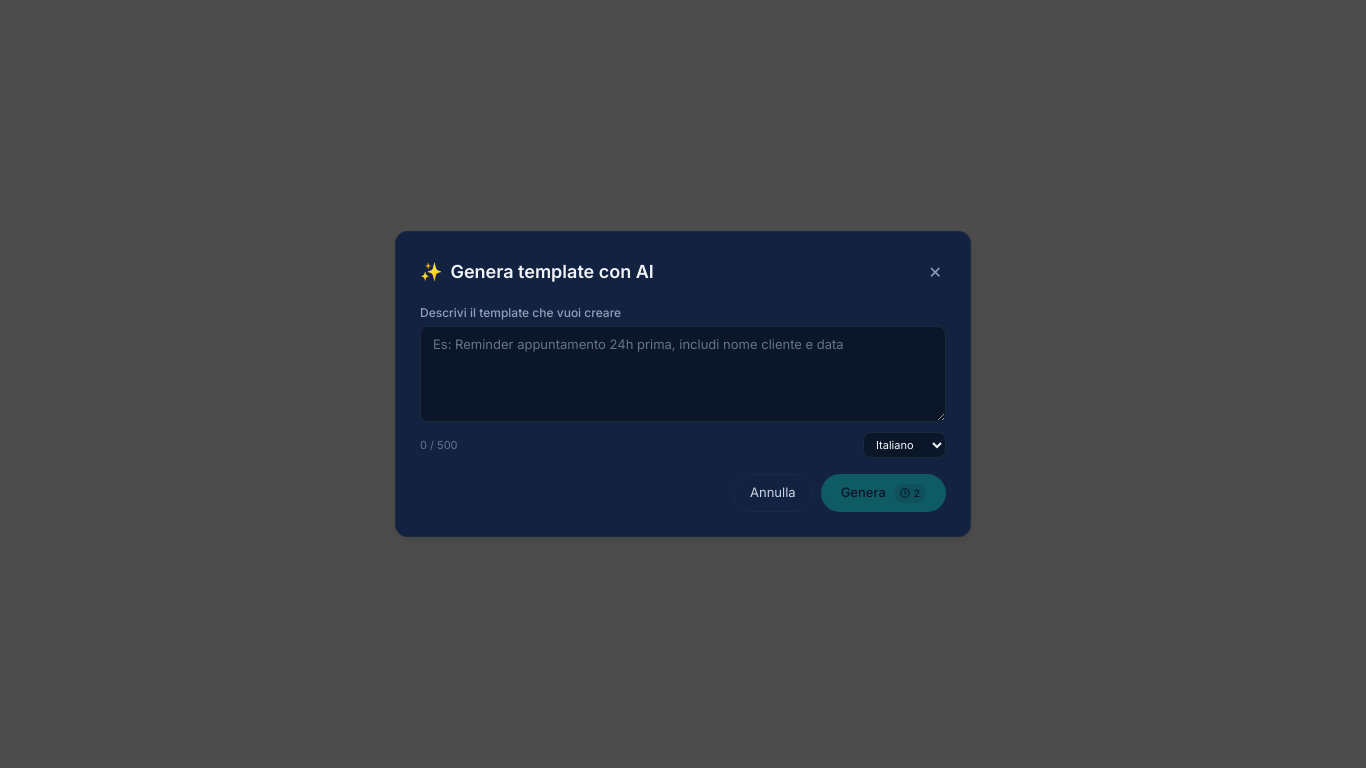
Test: <GenerateWithAI> › shows upgrade message on 402 plan-gated response
Type "test" into the text box with placeholder "Reminder" at (683, 374), box [420,326,946,422]
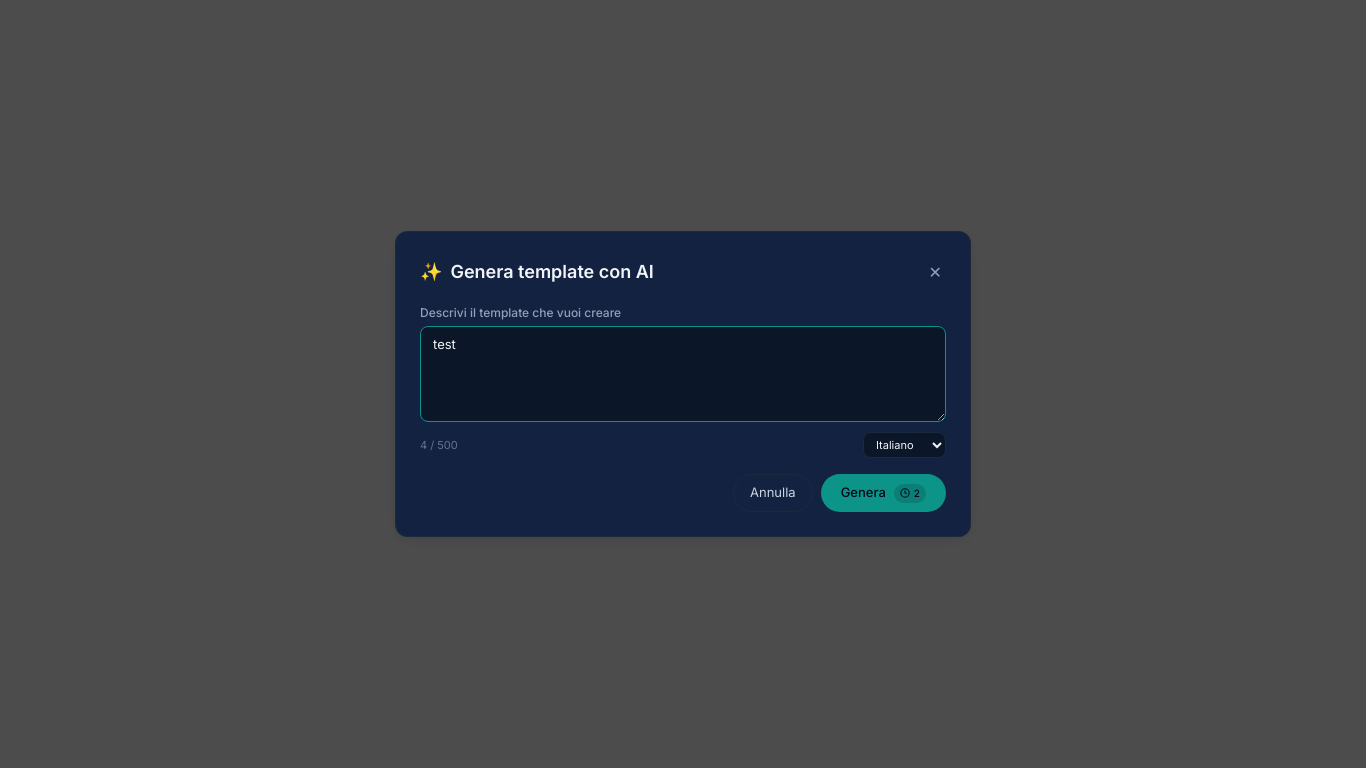
Click the button "Genera 2" at (883, 493), box [821,474,946,512]
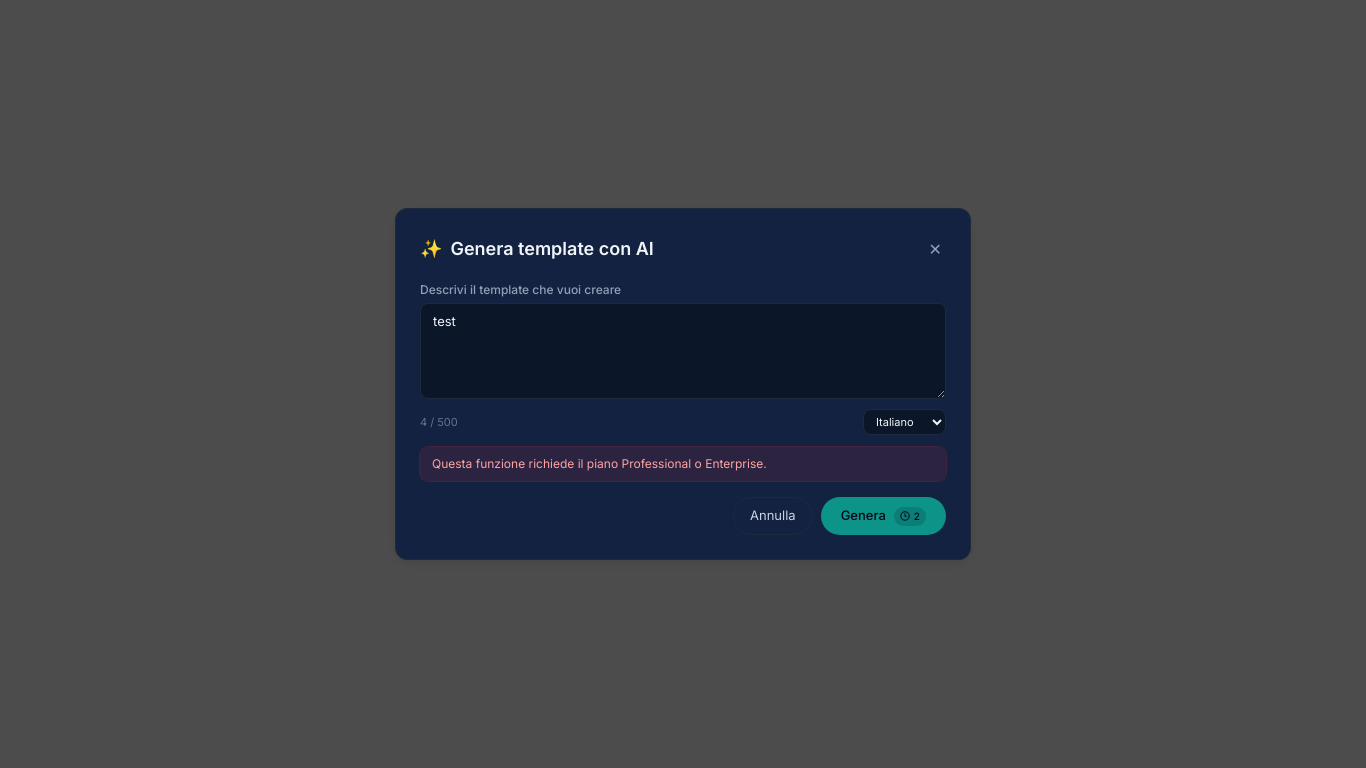
Now the text "Questa funzione richiede il piano Professional o Enterprise." is shown, box [420,447,946,481]
